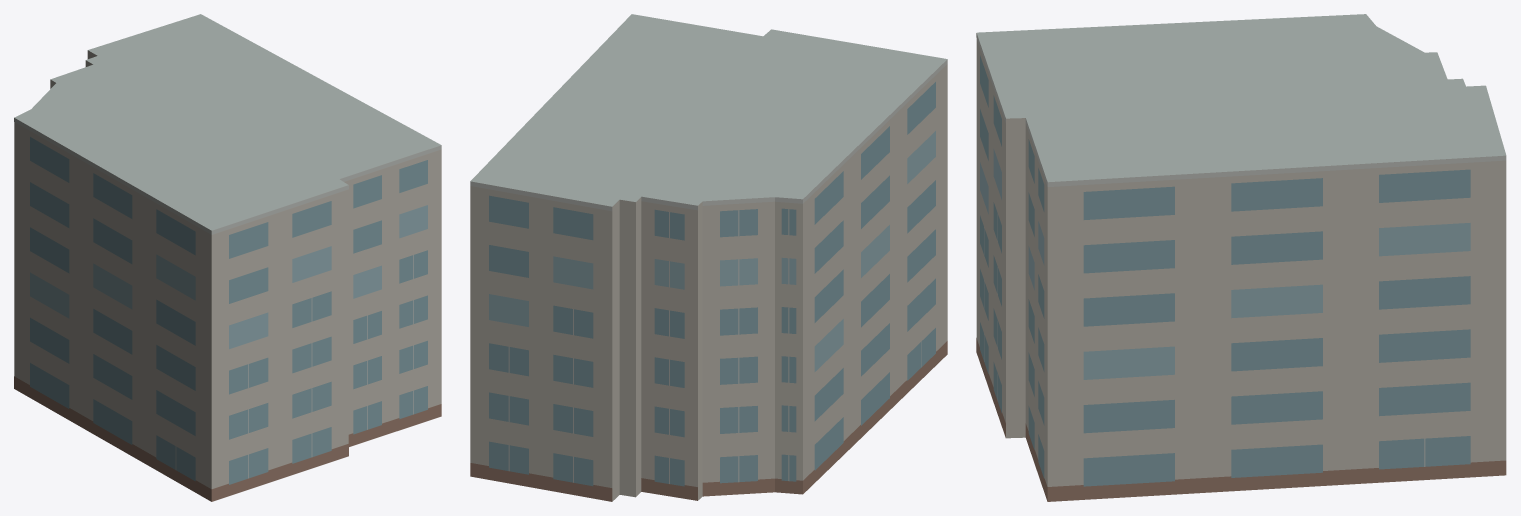
The model's file is survey-upis-32901420.glb.
3 renders of one model, left to right at view 1: azimuth 30°, elevation 25°; view 2: azimuth 150°, elevation 25°; view 3: azimuth 270°, elevation 25°, orthographic. The views are drawn at different scales.
Parts seen in each view (by area): view 1: survey-upis-32901420.tmp; view 2: survey-upis-32901420.tmp; view 3: survey-upis-32901420.tmp.
Boxes of the visible parts, x1=… form: survey-upis-32901420.tmp: x1=14, y1=14, x2=441, y2=501; survey-upis-32901420.tmp: x1=470, y1=14, x2=947, y2=501; survey-upis-32901420.tmp: x1=976, y1=14, x2=1506, y2=501.
Size of the model in its own units: 17.73 by 15.7 by 23.6.
